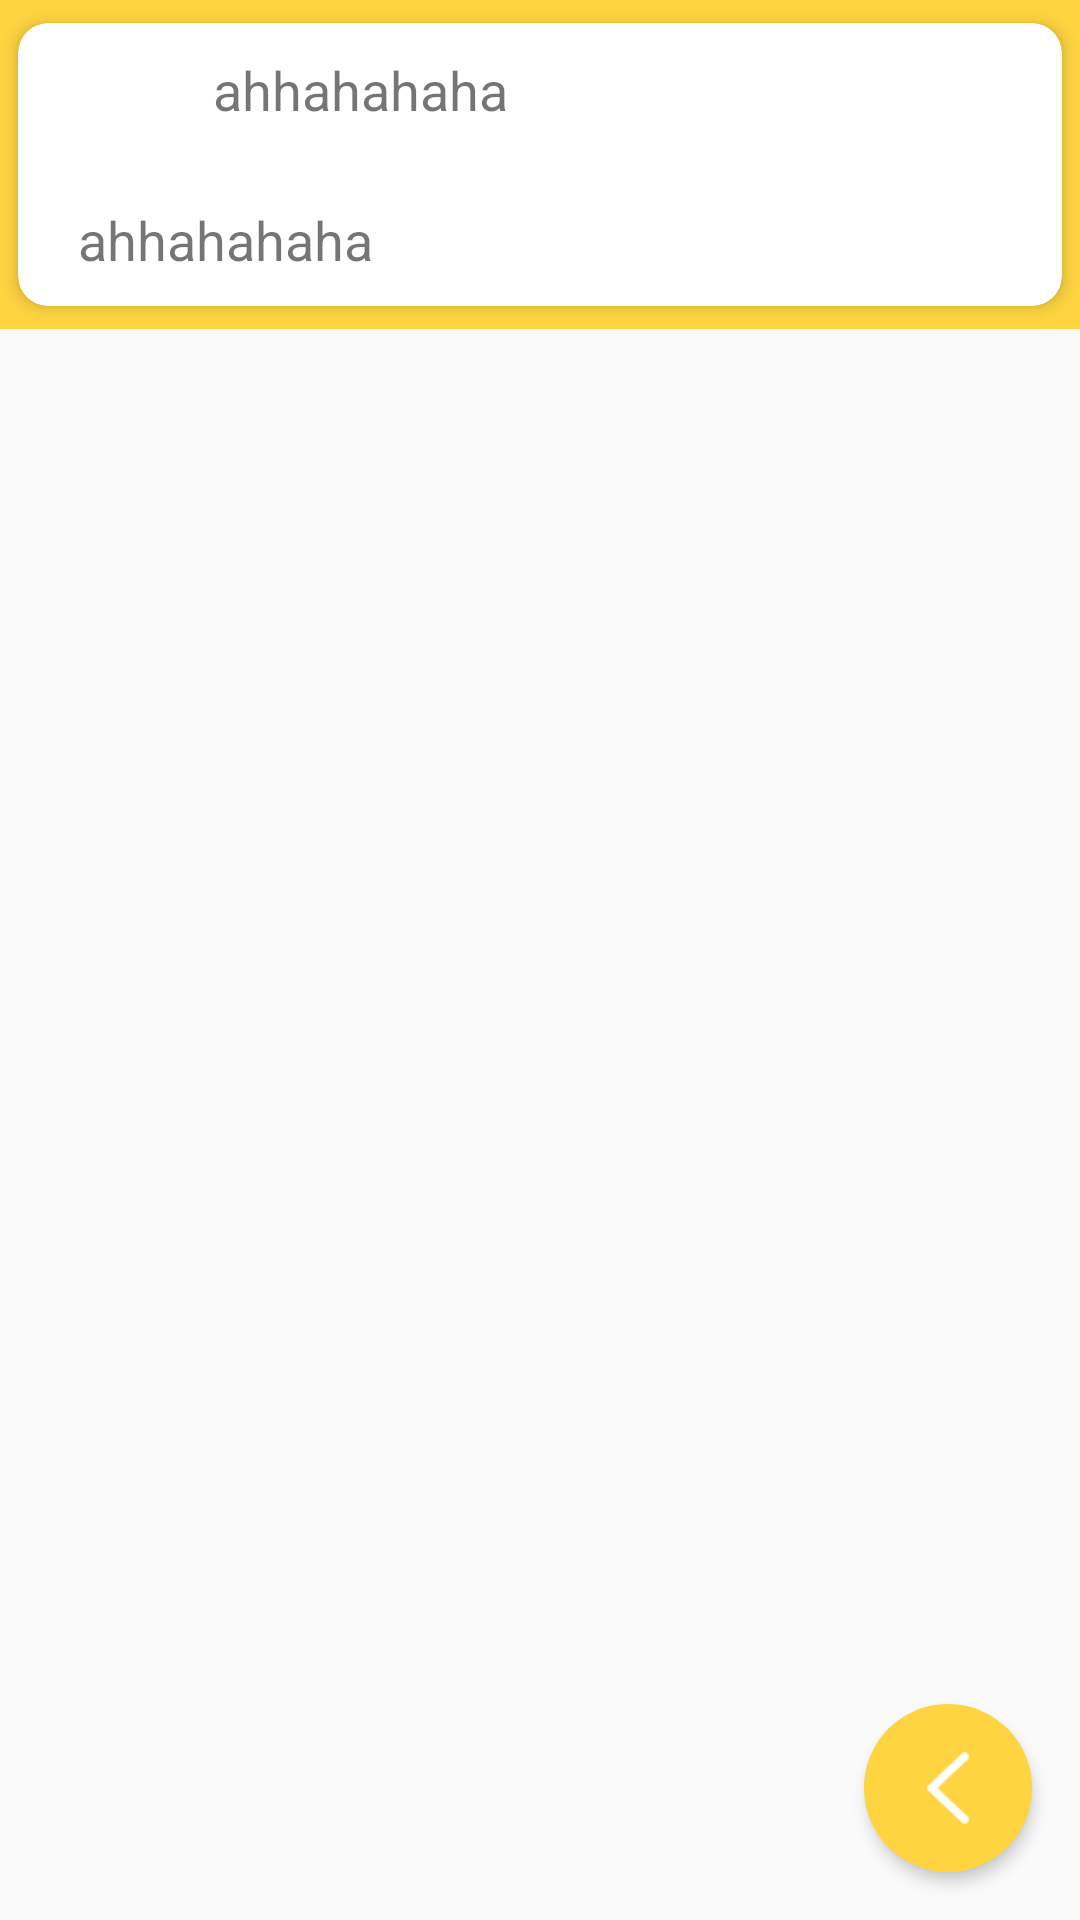

Named icons in this screenshot (1080x1920) and their bounding boxes, (x1, y1, x2, y2):
back: (864, 1704, 1032, 1872)
